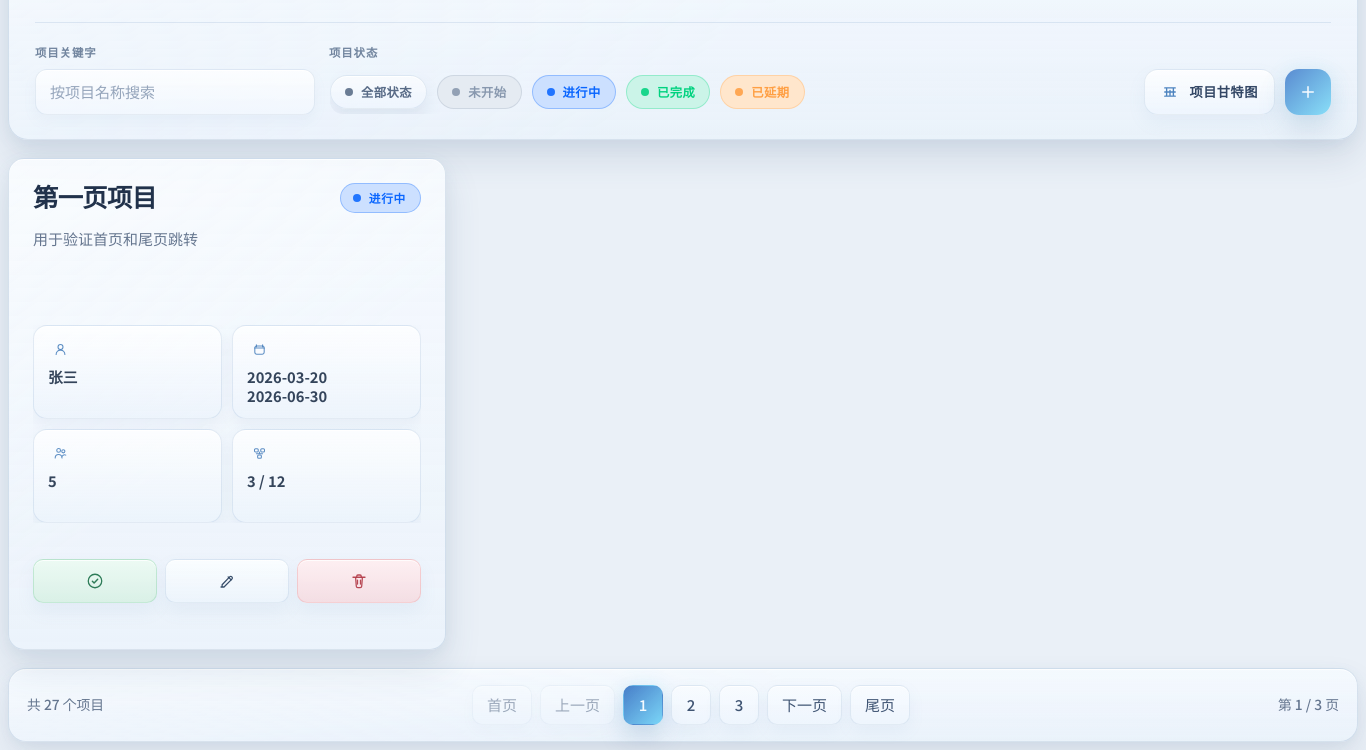
Test: ProjectListView › supports jumping directly to the first and last page
(page scrolled)
Expected: the heading "第一页项目" is shown, [33, 178, 156, 214]
Expected: the text "第 1 / 3 页" is shown, [1278, 694, 1339, 716]
Click the button "尾页". click: (880,705)
box: [850, 685, 910, 725]
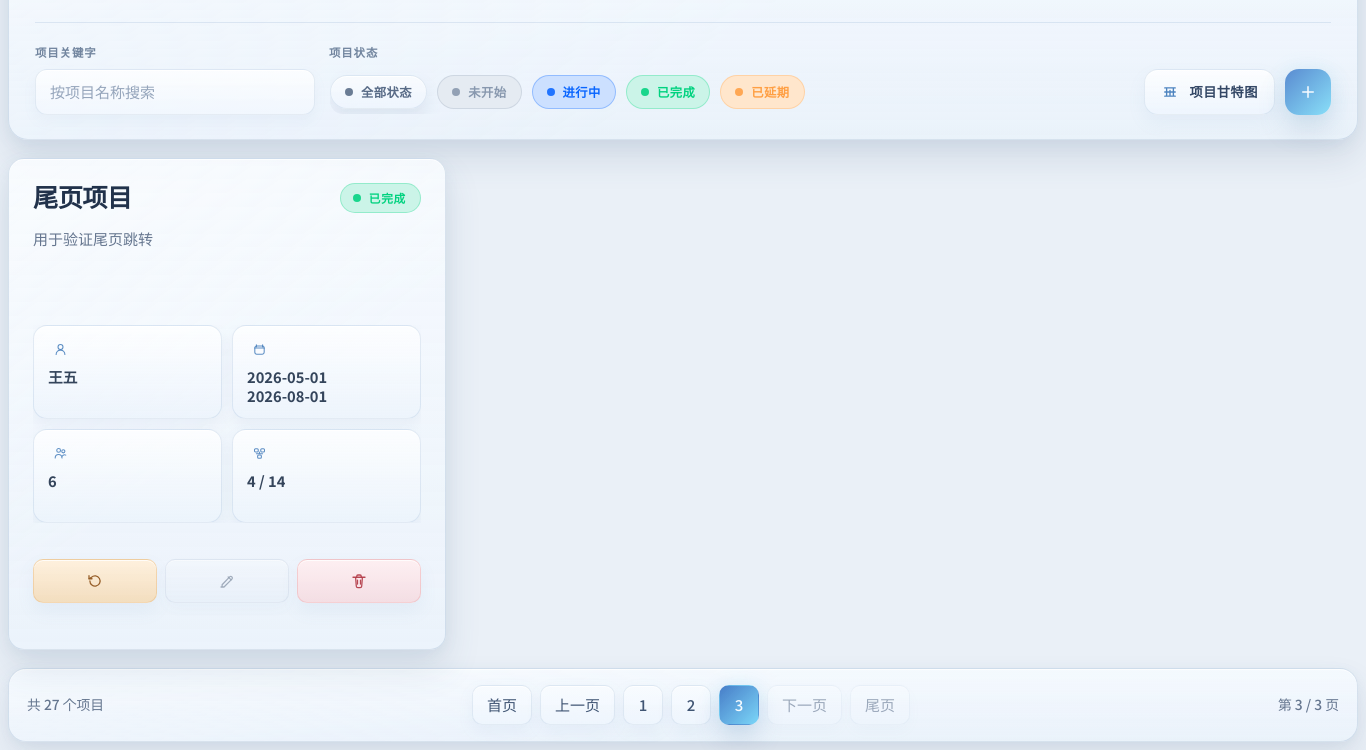
Expected: the heading "尾页项目" is shown, [33, 178, 132, 214]
Expected: the text "第 3 / 3 页" is shown, [1278, 694, 1339, 716]
Click the button "首页". click: (502,705)
box: [472, 685, 532, 725]
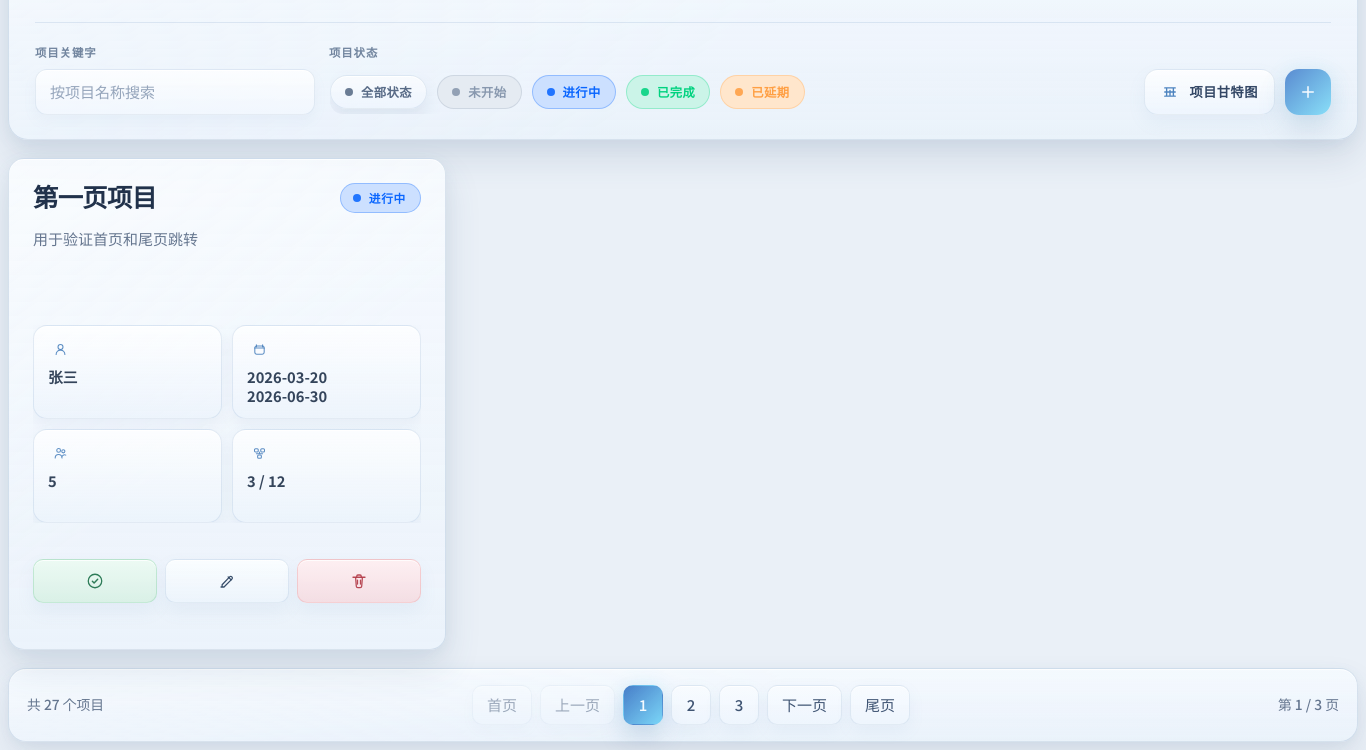
Expected: the heading "第一页项目" is shown, [33, 178, 156, 214]
Expected: the text "第 1 / 3 页" is shown, [1278, 694, 1339, 716]
